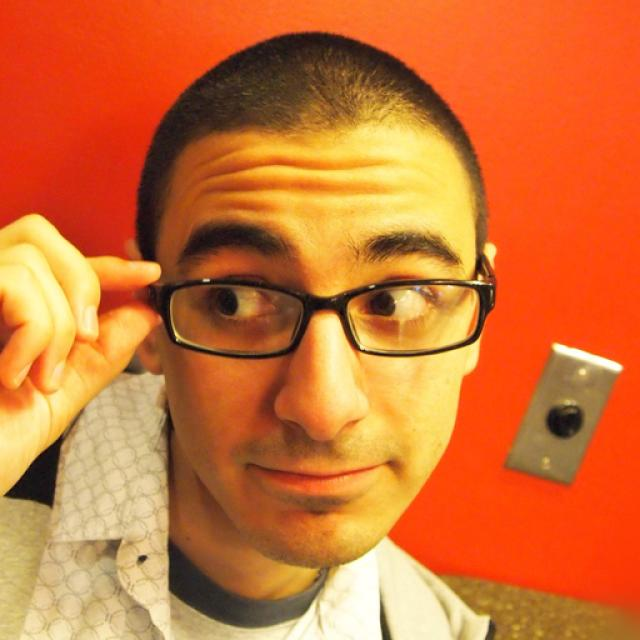Wrinkle: (203, 144, 399, 181), (185, 172, 407, 199), (211, 193, 279, 216)
